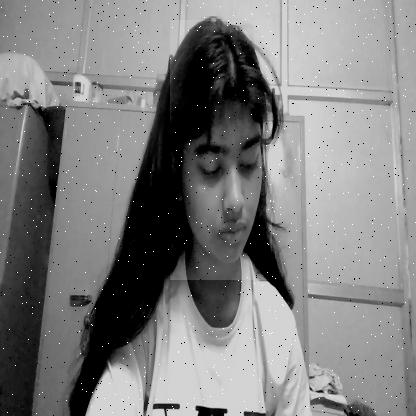Distracted: (170, 20, 272, 280)
